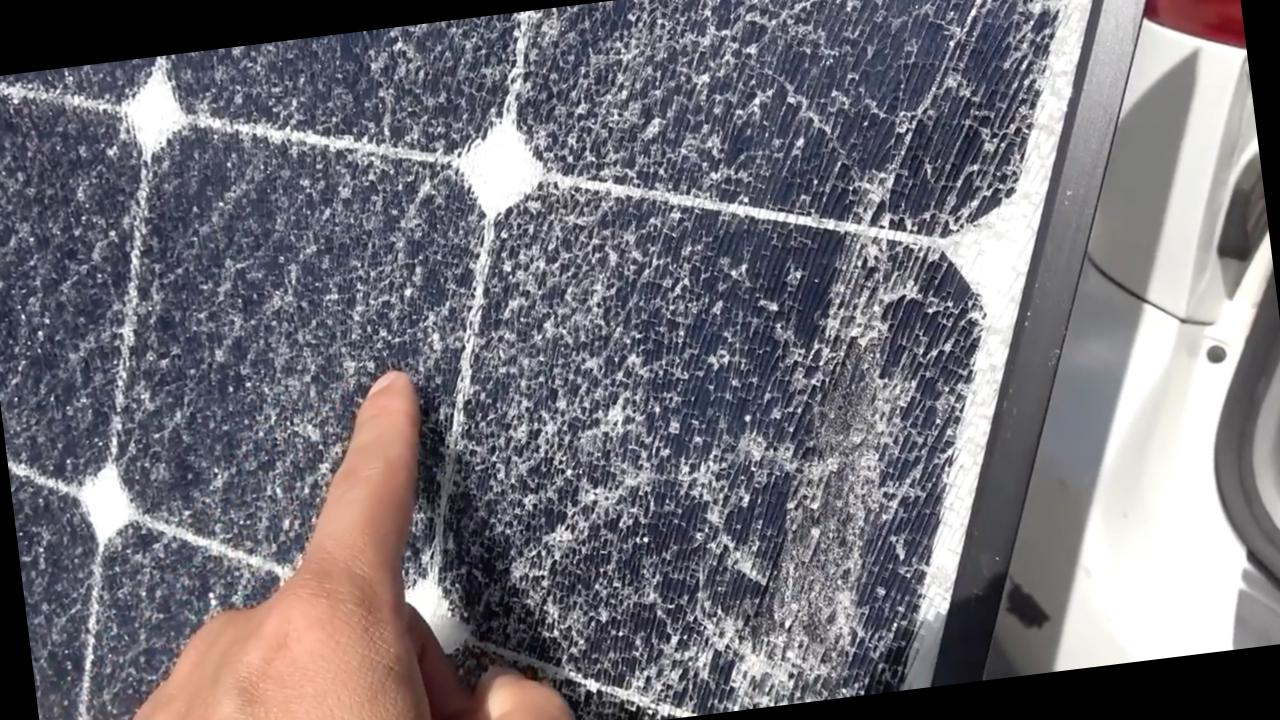Crack: (494, 296, 946, 640), (155, 21, 532, 355), (532, 0, 860, 287), (5, 358, 299, 584), (0, 69, 178, 364), (861, 0, 1029, 157)
